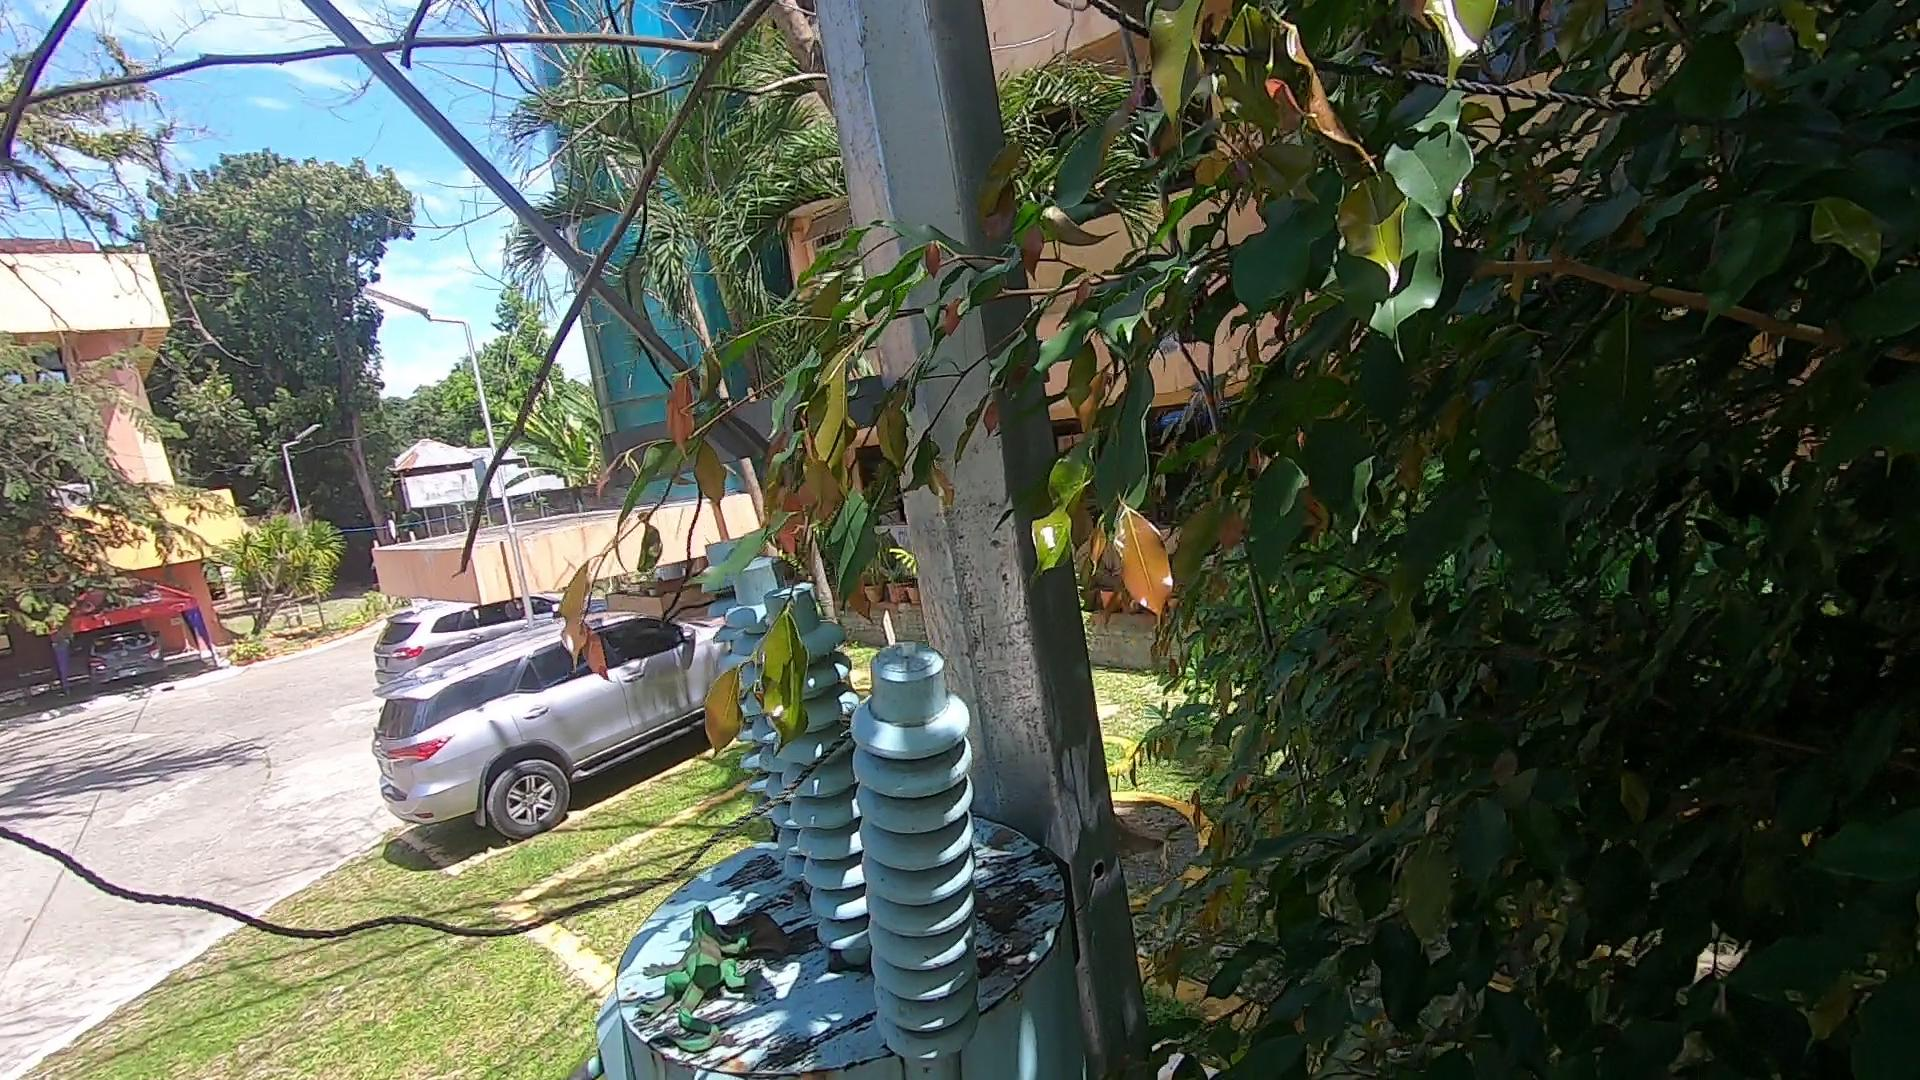leaf: (728, 909, 823, 971)
tree branch: (1, 1, 1269, 546)
